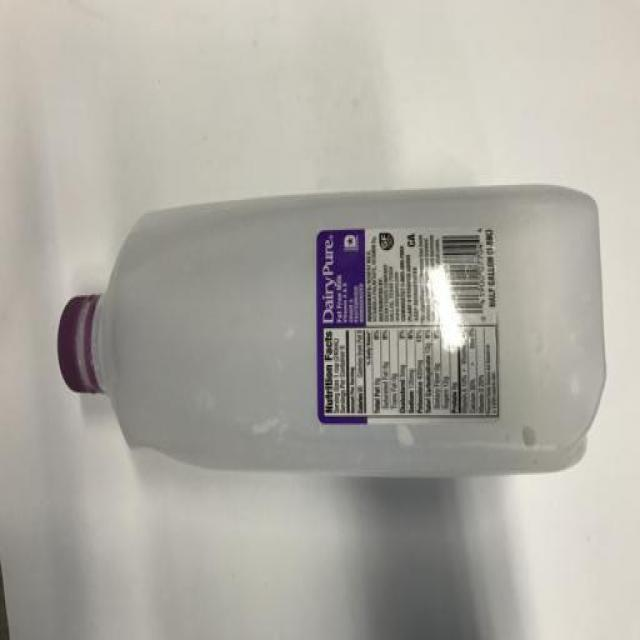plastic_bottle: (48, 187, 613, 488)
